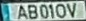0: (38, 3, 49, 19)
1: (48, 3, 55, 19)
A: (16, 4, 28, 20)
B: (27, 4, 38, 19)
O: (54, 2, 67, 19)
V: (65, 1, 77, 18)
